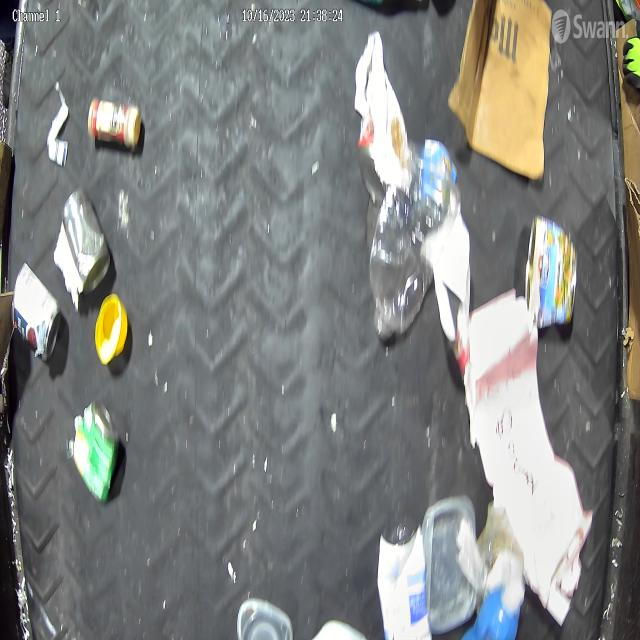can: (524, 213, 579, 329), (61, 186, 111, 295), (72, 398, 122, 504), (11, 262, 62, 362)
plastic_bottle: (369, 140, 459, 342)
